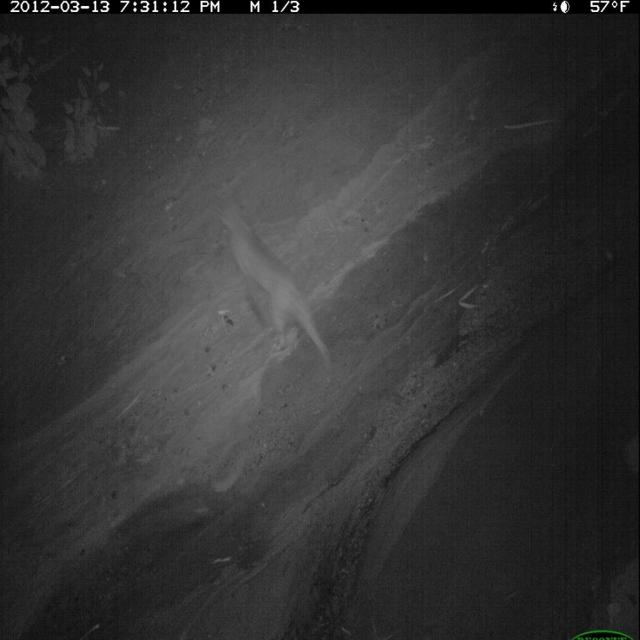bobcat: (212, 181, 341, 378)
